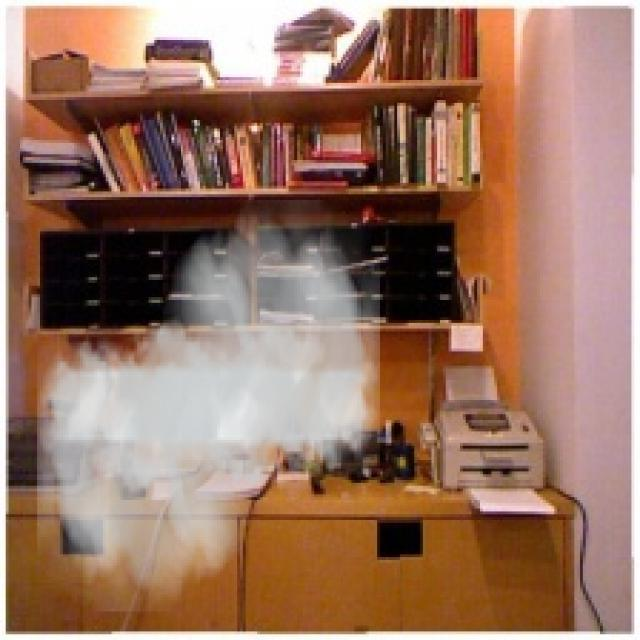Smoke: (37, 199, 380, 612)
